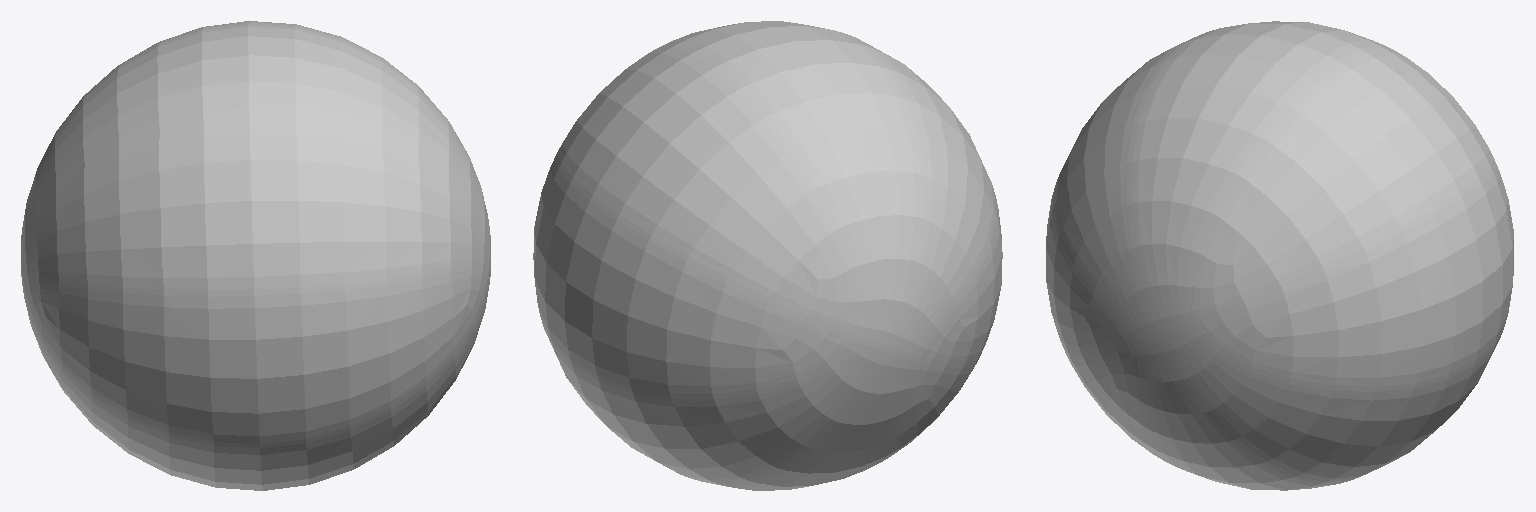
File: bola.obj
3 renders of one model, left to right at view 1: azimuth 30°, elevation 25°; view 2: azimuth 150°, elevation 25°; view 3: azimuth 270°, elevation 25°, orthographic.
Visible parts, largest first — view 1: Sphere019; view 2: Sphere019; view 3: Sphere019.
Part boxes in pixels (left/top/right/bottom): Sphere019: left=21, top=21, right=490, bottom=490; Sphere019: left=533, top=21, right=1002, bottom=490; Sphere019: left=1046, top=21, right=1513, bottom=490.
Size of the model in its own units: 9.21 by 9.2 by 9.18.